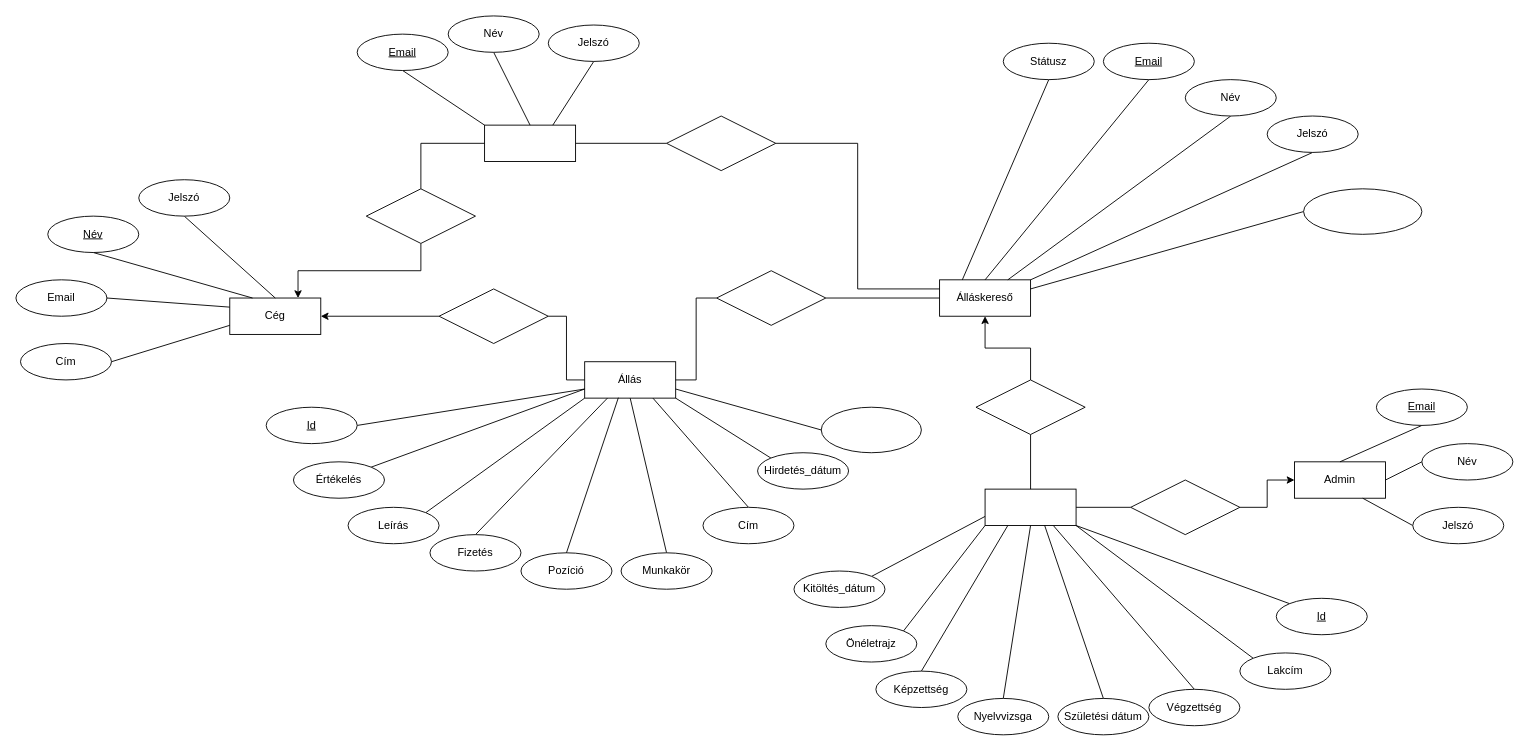
Some shapes in this 1529 by 751 pixel diagram are drawn without their labels. The centre of each missing label's shape, as x and y in pixels:
Adatlap: point 1030,507
Bejelentkezés_időpont: point 1362,211
Felkeres: point 721,143
Hirdet: point 493,316
HR_Ügynök: point 530,143
Jelentkezik: point 771,297
Jelentkezés_dátum: point 870,429
Kitölt: point 1030,407
Moderál: point 1185,507
Tartozik: point 420,215
